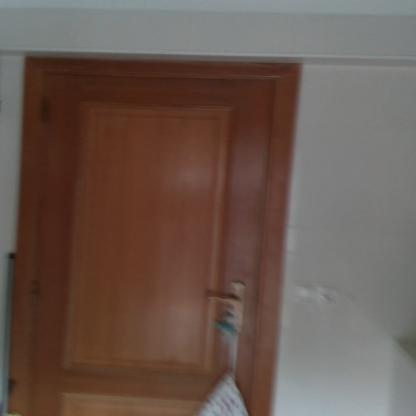door: (31, 74, 256, 416)
hinged: (40, 94, 51, 130), (30, 280, 38, 308)
lever: (201, 290, 245, 310)
